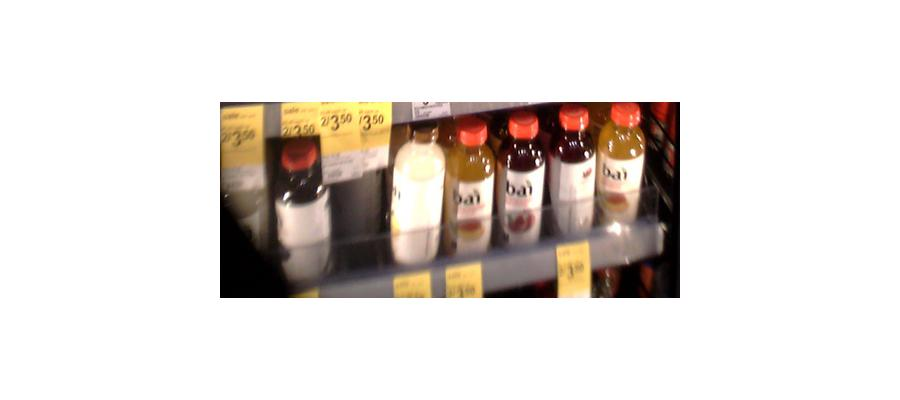bottle: (273, 132, 333, 283), (390, 118, 445, 267), (597, 104, 647, 245), (496, 112, 548, 246), (445, 118, 495, 255), (550, 108, 597, 240)
